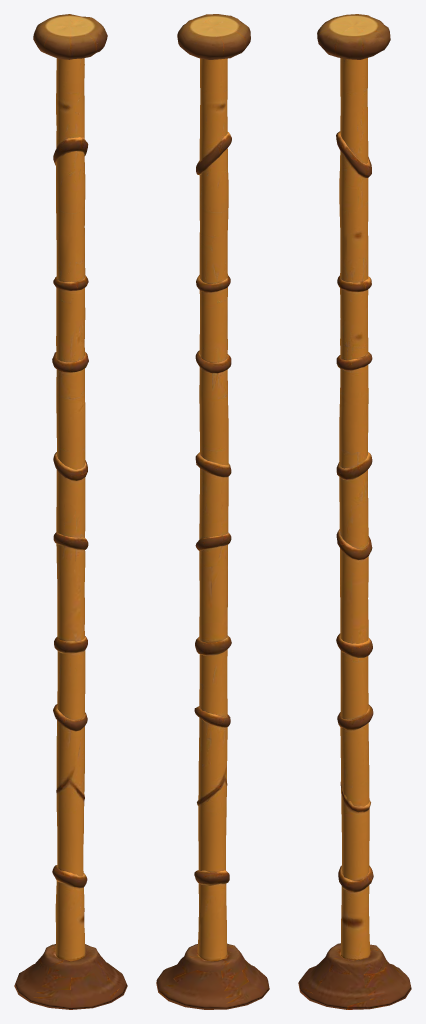
The model's file is loft_post.glb.
The picture shows the model from 3 angles, left to right: view 1: azimuth 90°, elevation 25°; view 2: azimuth 150°, elevation 25°; view 3: azimuth 330°, elevation 25°; orthographic projection.
Bounding box in the file's own units: 0.109 × 1 × 0.1071.
Materials: 1 (1 with a texture image).
